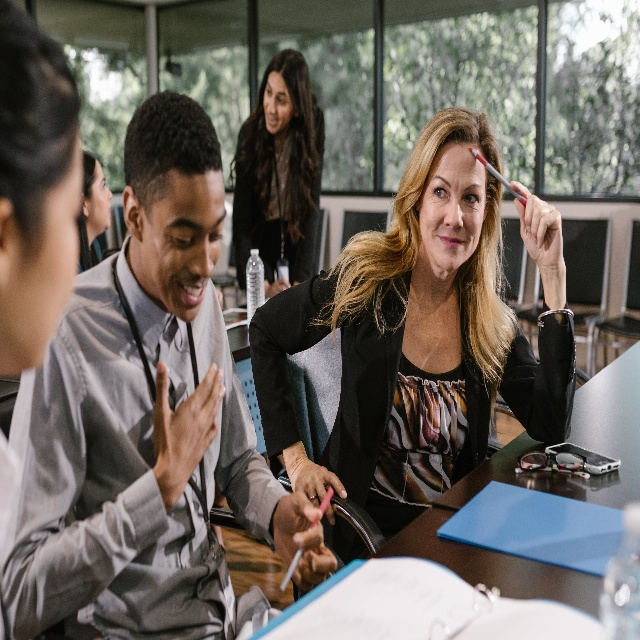Gafas: (513, 453, 590, 481)
Sin_guantes: (153, 359, 227, 498), (273, 491, 339, 592), (509, 179, 562, 269), (290, 457, 347, 525), (266, 279, 292, 296)
